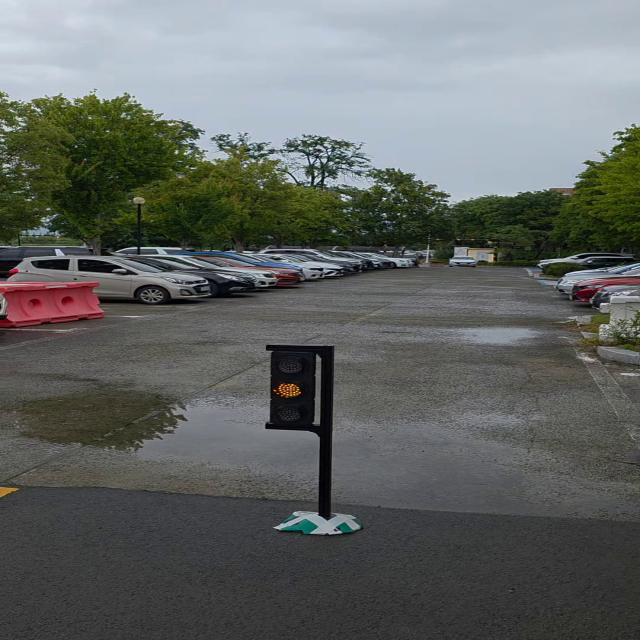yellow: (264, 342, 329, 429)
